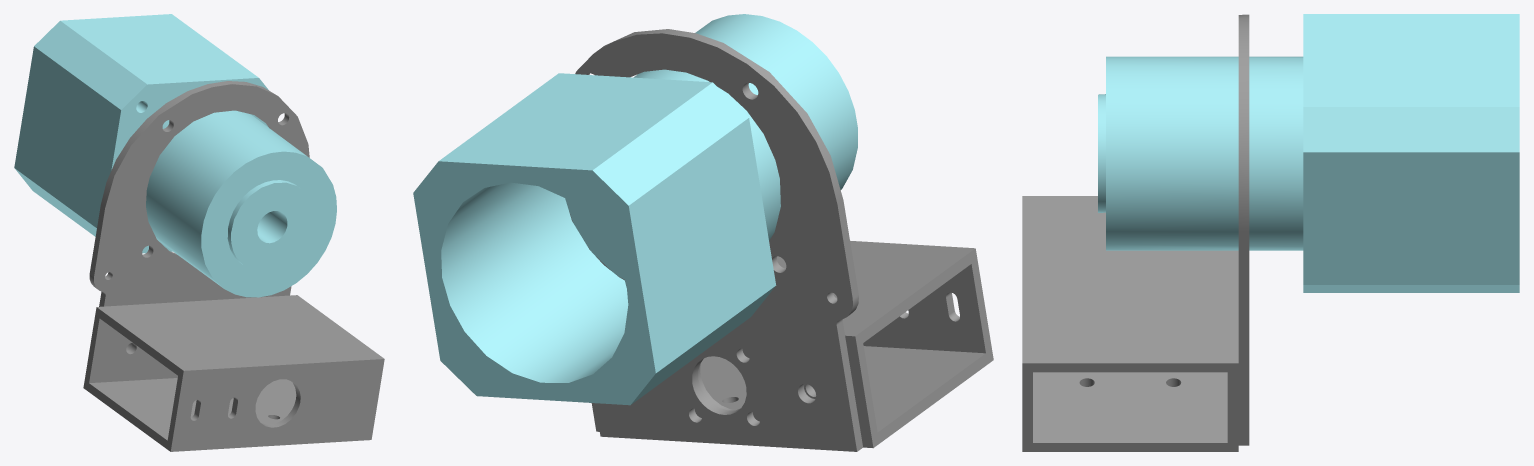
File: Robot_3_Y_Axes.gltf
The picture shows the model from 3 angles, left to right: view 1: azimuth 30°, elevation 25°; view 2: azimuth 150°, elevation 25°; view 3: azimuth 270°, elevation 25°; orthographic projection. The views are drawn at different scales.
Visible parts, largest first — view 1: StaticMesh3; view 2: StaticMesh3; view 3: StaticMesh3.
Boxes of the visible parts, <box> form: StaticMesh3: <box>14,14,384,451</box>; StaticMesh3: <box>413,14,993,451</box>; StaticMesh3: <box>1022,14,1519,451</box>.
Bounding box in the file's own units: 6 × 7.75 × 9.2.
